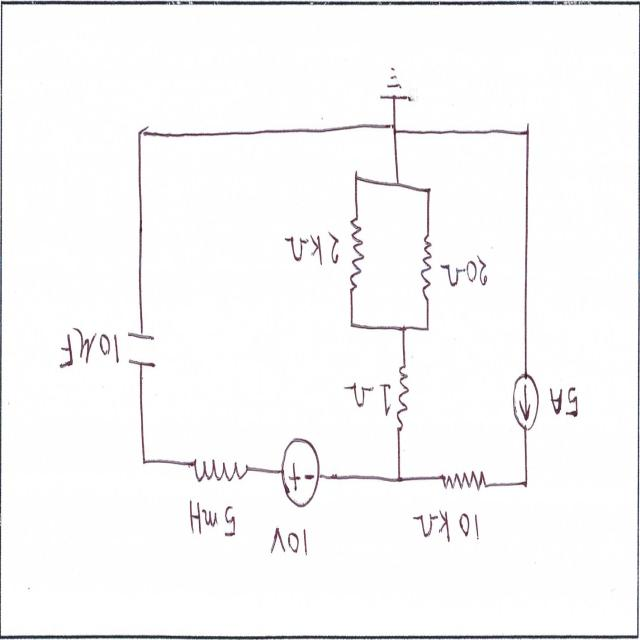capacitor: (298, 90, 322, 166), (425, 89, 450, 160), (182, 98, 208, 165)
current_source: (354, 203, 396, 301), (100, 236, 144, 323)
ground: (220, 461, 260, 503)
inductor: (240, 168, 262, 284)
resistor: (485, 100, 540, 146)
